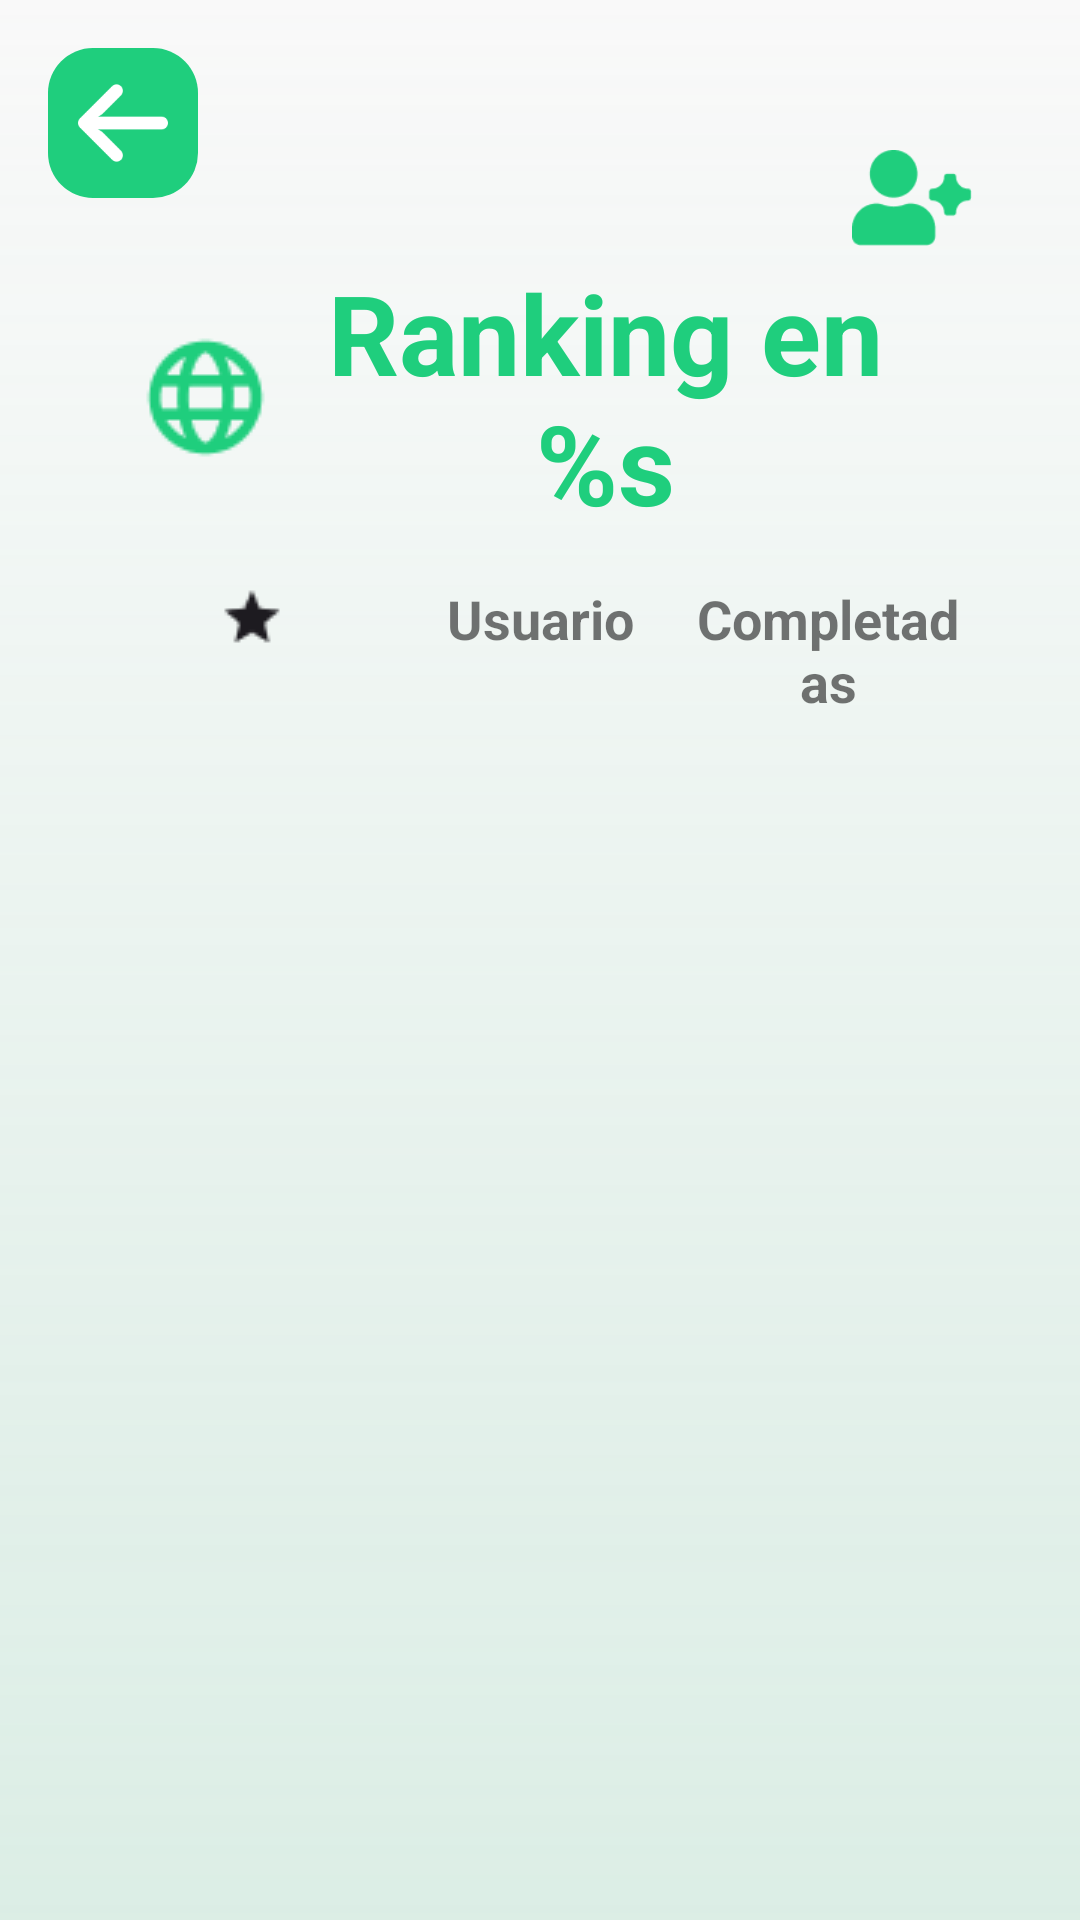

Locate icon controls on the screen. Image size 1080px×1920px, boxes as region(x1, y1, x2, y2).
estrellaranking: region(224, 590, 280, 643)
Volver: region(48, 48, 198, 198)
